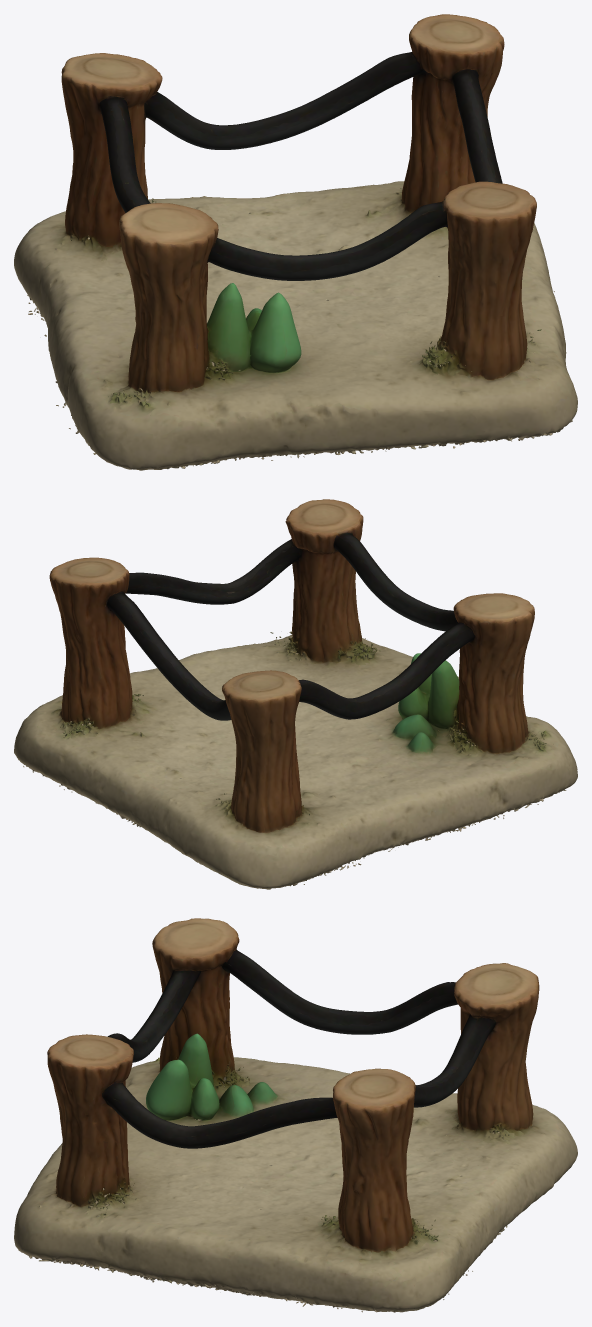
3 renders of one model, top to bottom at view 1: azimuth 30°, elevation 25°; view 2: azimuth 150°, elevation 25°; view 3: azimuth 270°, elevation 25°, orthographic. The views are drawn at different scales.
Parts seen in each view (by area): view 1: world; view 2: world; view 3: world.
Boxes of the visible parts, box(x1,y1,x2,y2) form: world: box(14, 14, 577, 470); world: box(14, 499, 577, 889); world: box(14, 918, 577, 1312).
Size of the model in its own units: 0.9945 by 0.4123 by 1.
Materials: 1 (1 with a texture image).
